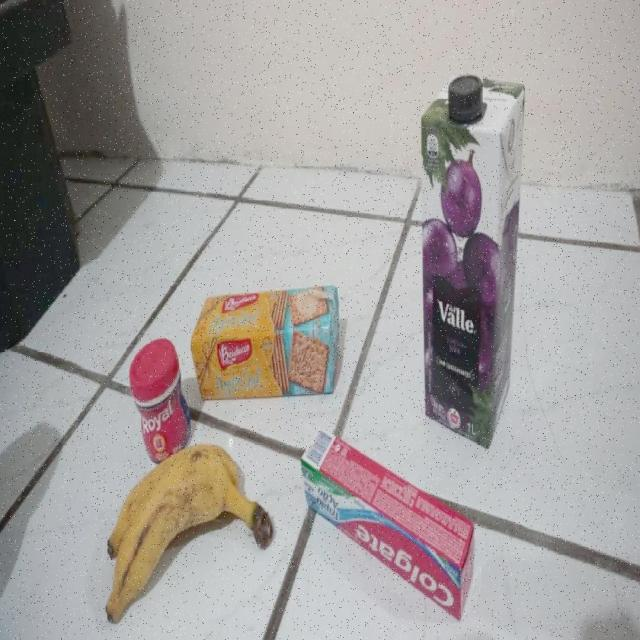Banana: (76, 436, 272, 602)
Cracker: (192, 287, 338, 402)
Toothpaste: (300, 436, 475, 622)
Yeast: (126, 344, 191, 449)
